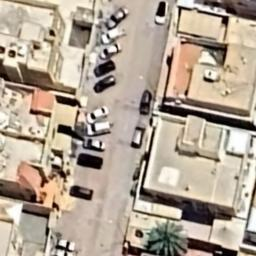SUV: (152, 0, 170, 26), (138, 87, 154, 116)
sedan: (72, 150, 106, 172), (92, 40, 126, 60), (102, 6, 130, 28), (84, 103, 112, 125), (96, 26, 130, 44), (128, 121, 146, 151), (89, 60, 118, 78), (80, 136, 106, 156), (51, 236, 79, 252), (47, 247, 75, 256)
van: (81, 120, 115, 140), (90, 74, 120, 96), (69, 183, 96, 203)
